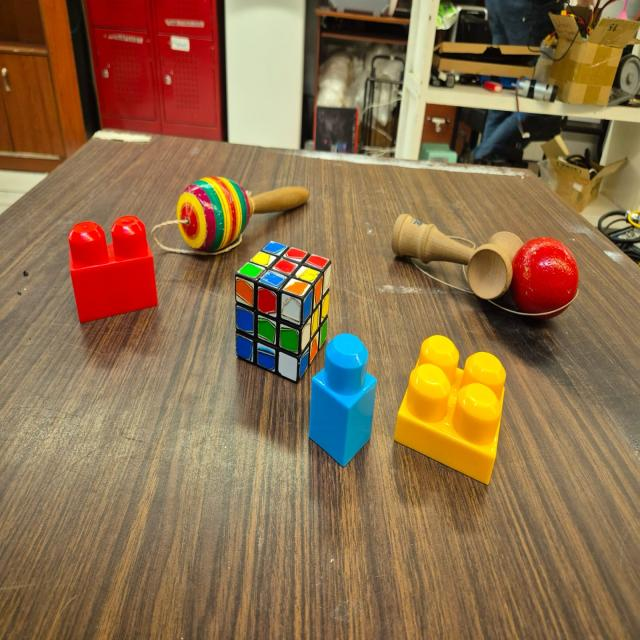balero: (162, 176, 308, 252)
balero ball: (392, 214, 581, 324)
lego 2: (66, 214, 158, 321)
lego 4: (394, 328, 514, 486)
lego_1: (303, 329, 381, 473)
rubick: (234, 243, 335, 387)
